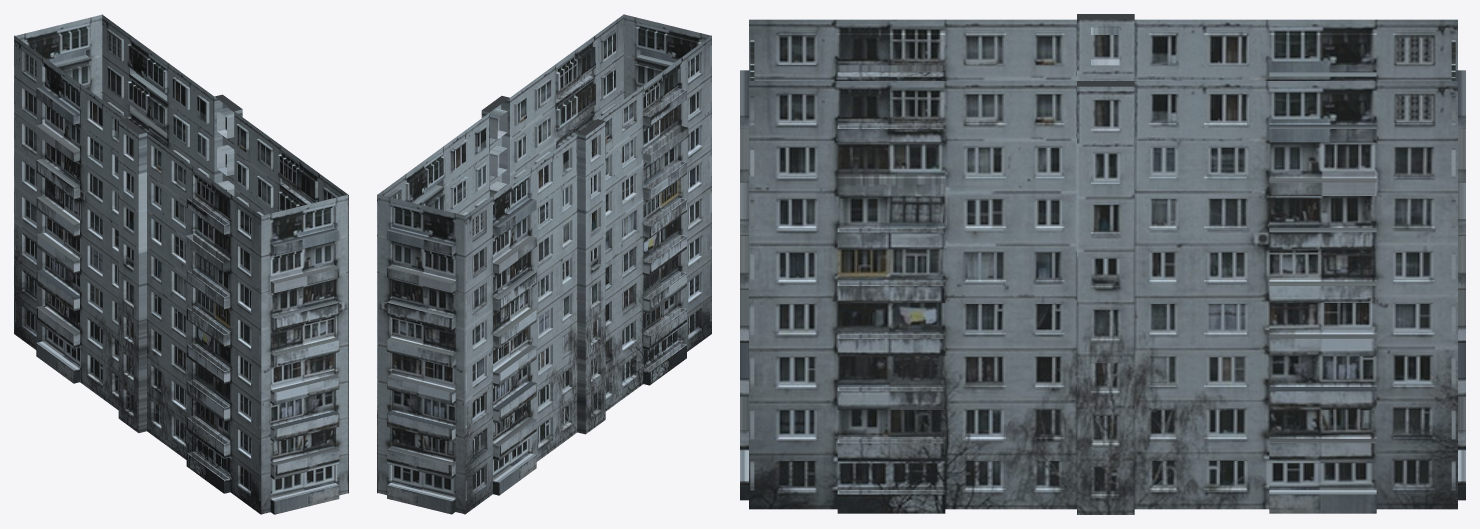
3 renders of one model, left to right at view 1: azimuth 30°, elevation 25°; view 2: azimuth 150°, elevation 25°; view 3: azimuth 270°, elevation 25°, orthographic. The views are drawn at different scales.
Parts seen in each view (by area): view 1: Cube.003_56ef4e30bfca8ac25300c77d7c17d7bc_0; view 2: Cube.003_56ef4e30bfca8ac25300c77d7c17d7bc_0; view 3: Cube.003_56ef4e30bfca8ac25300c77d7c17d7bc_0.
Boxes of the visible parts, bbox=[...] form: Cube.003_56ef4e30bfca8ac25300c77d7c17d7bc_0: bbox=[14, 14, 348, 514]; Cube.003_56ef4e30bfca8ac25300c77d7c17d7bc_0: bbox=[377, 14, 711, 514]; Cube.003_56ef4e30bfca8ac25300c77d7c17d7bc_0: bbox=[740, 14, 1465, 514].
Size of the model in its own units: 0.5356 by 1.47 by 2.26.
Materials: 1 (1 with a texture image).
